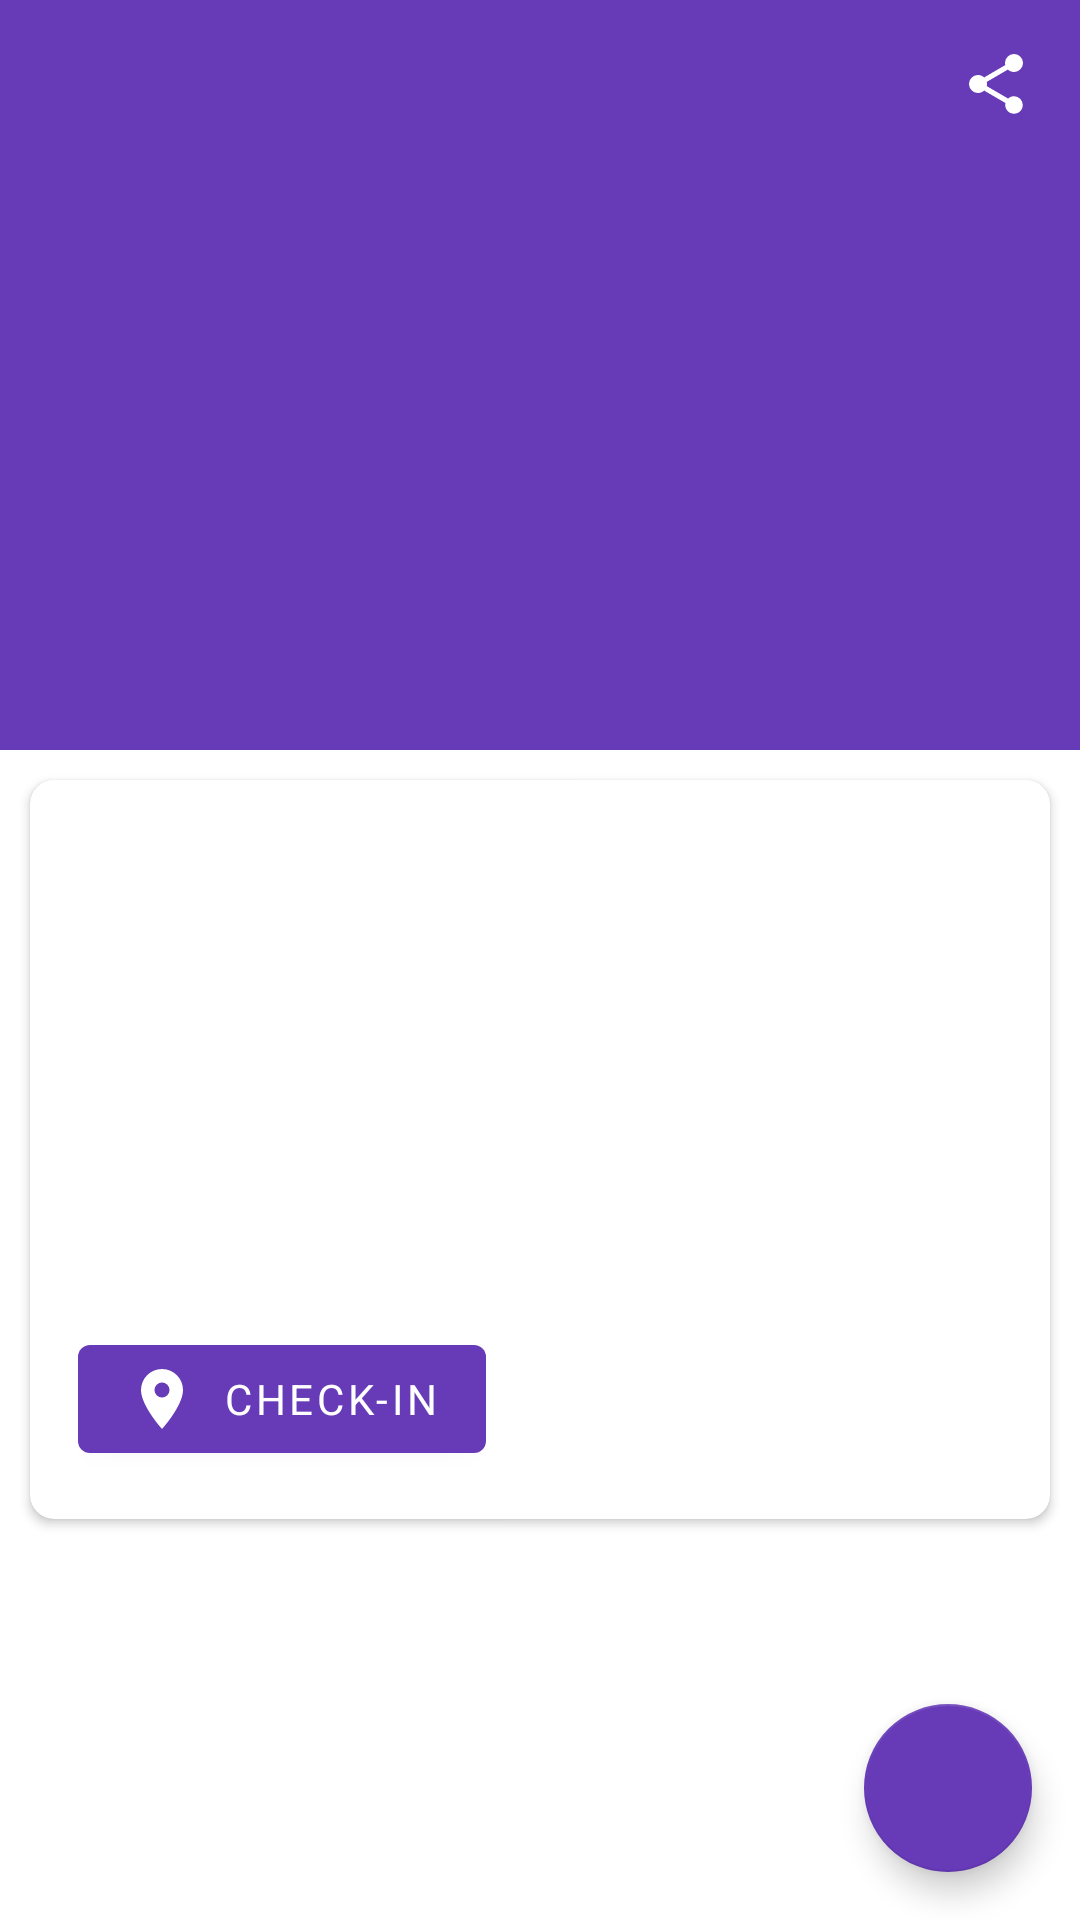

Screen size 1080x1920. Icon name, then its center in pixels as [x,y]:
share variant: [996,84]
